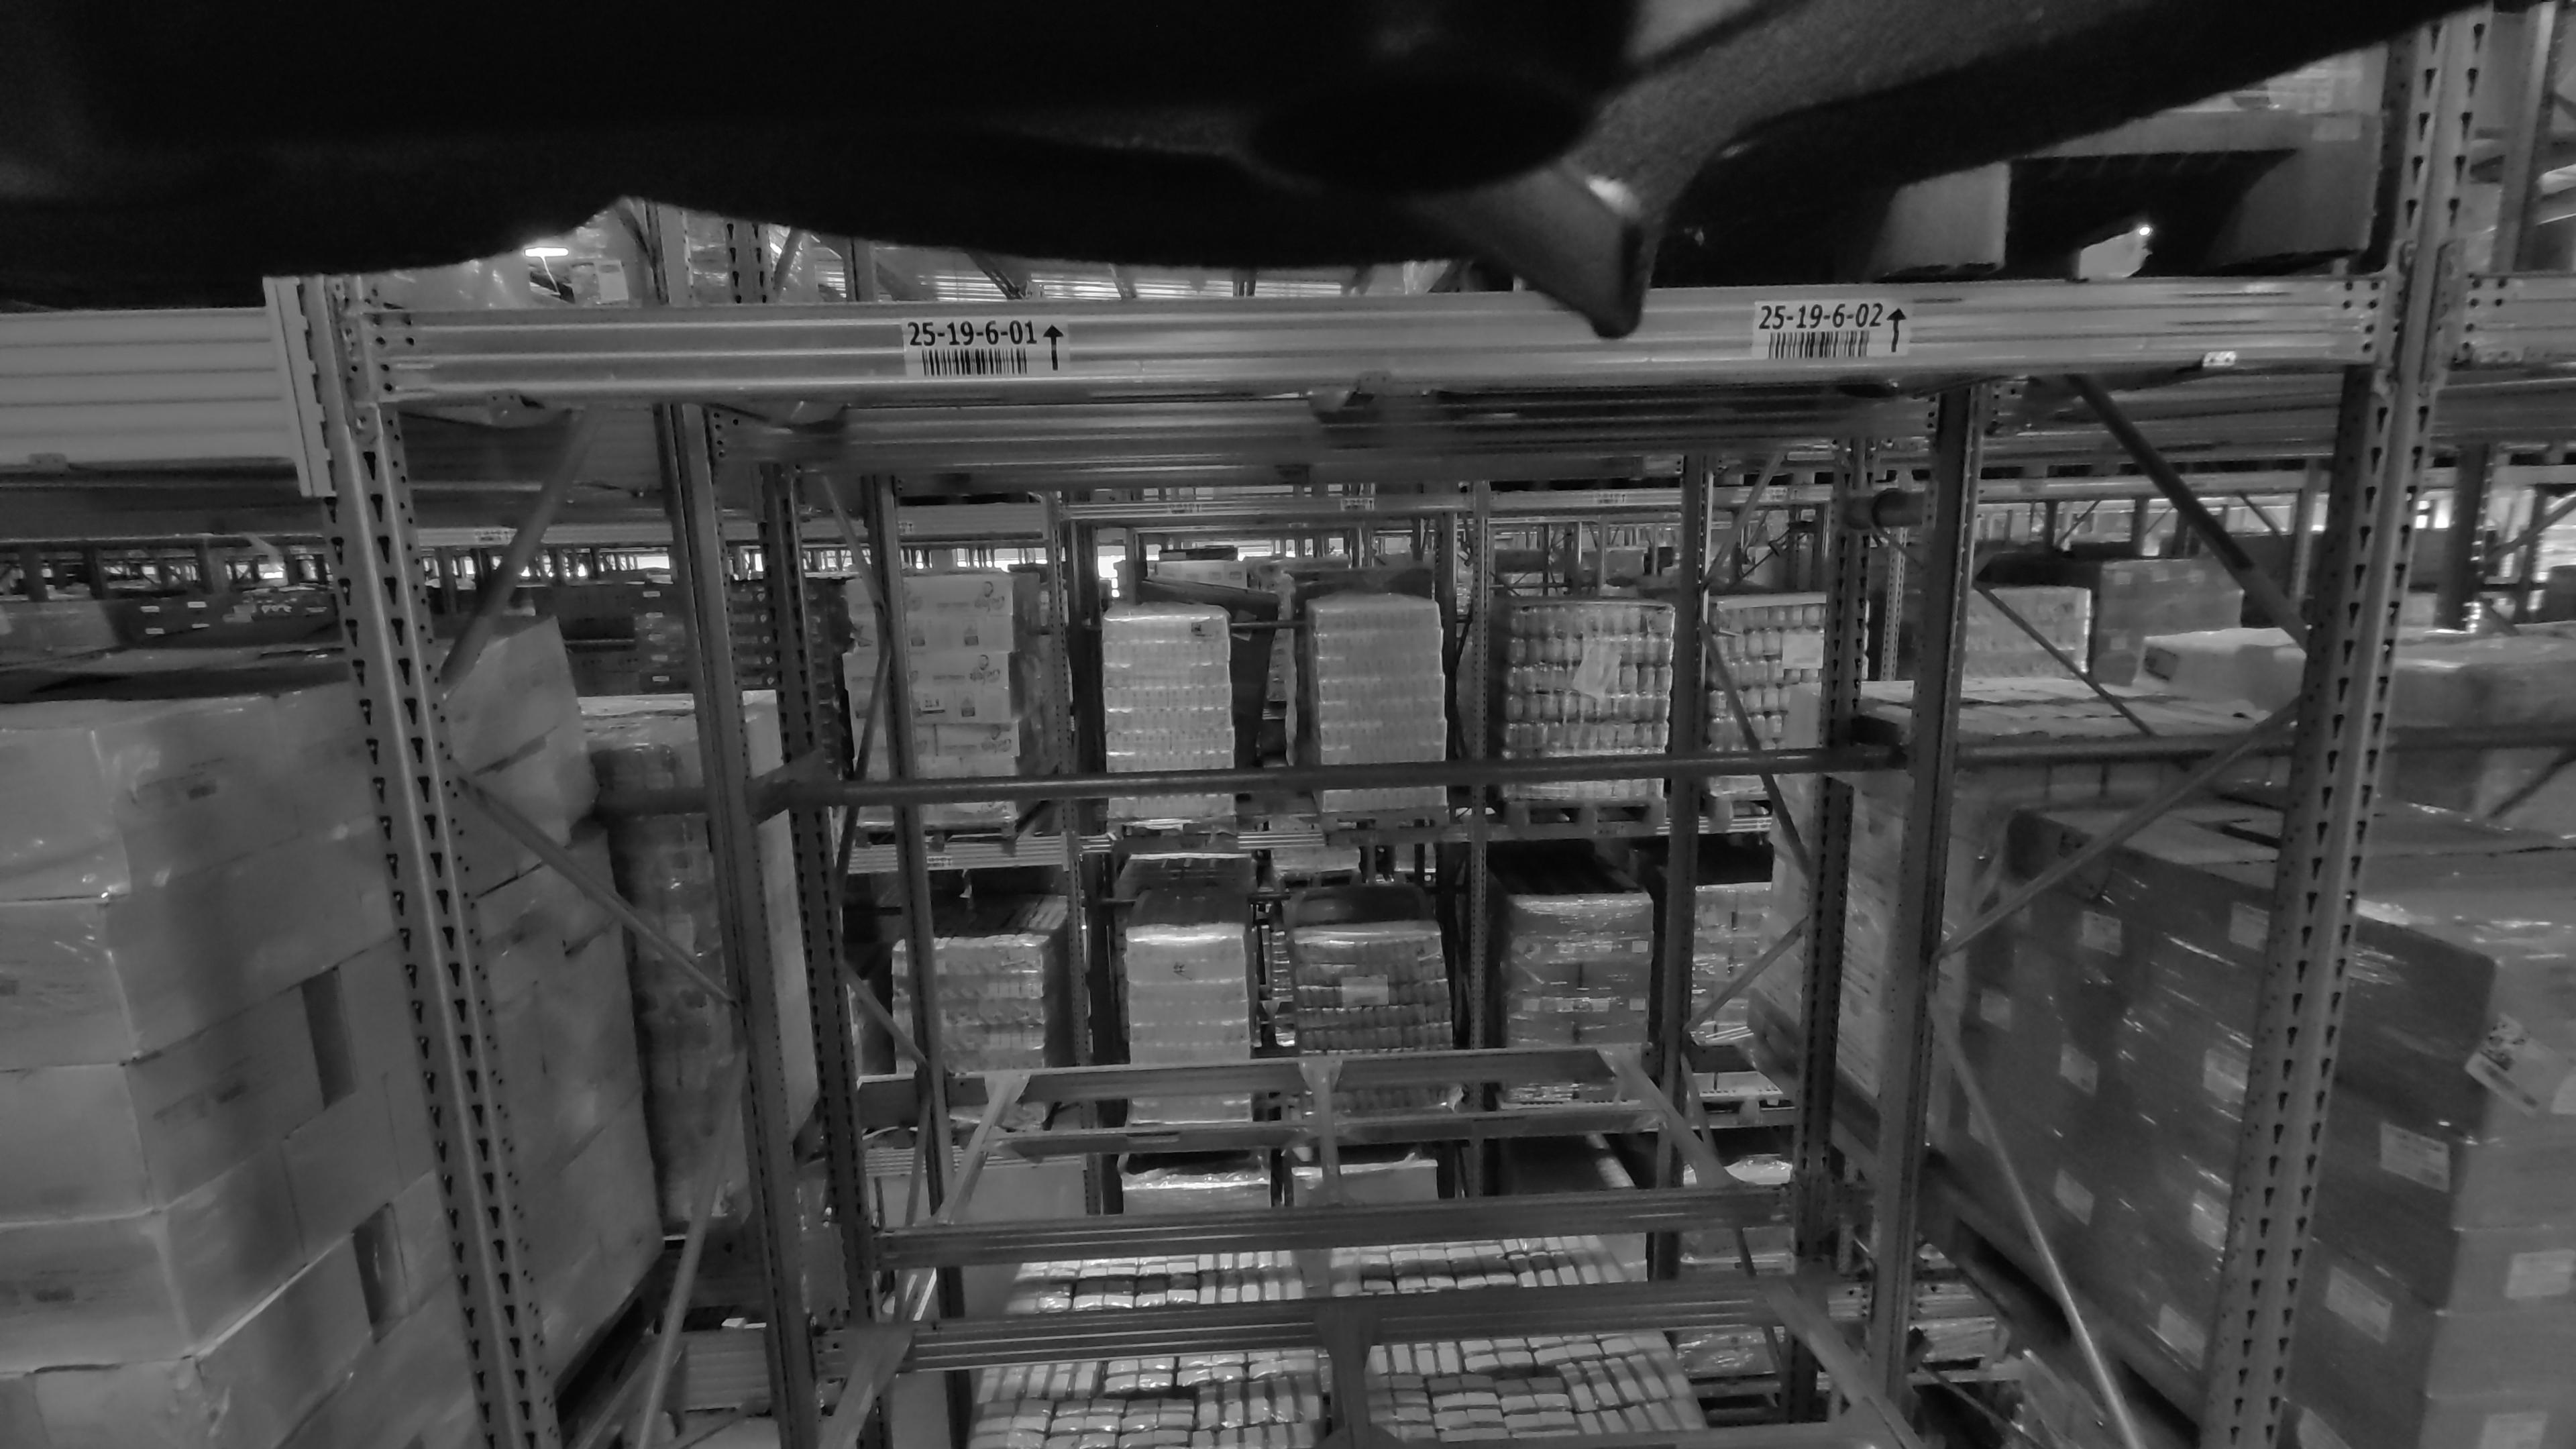empty-shelf: (805, 389, 1369, 1449), (1449, 389, 1923, 1447), (1325, 474, 1734, 1187), (943, 467, 1302, 1212)
